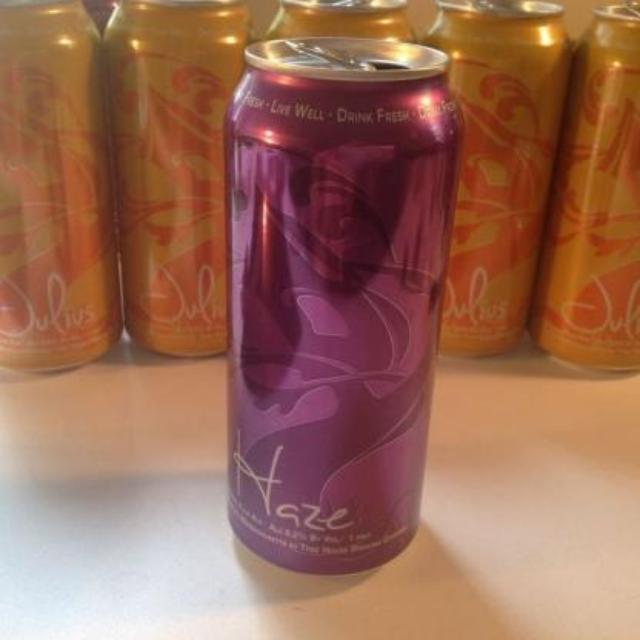metal: (225, 37, 455, 569), (422, 2, 568, 355), (105, 0, 245, 352), (534, 2, 638, 368)
